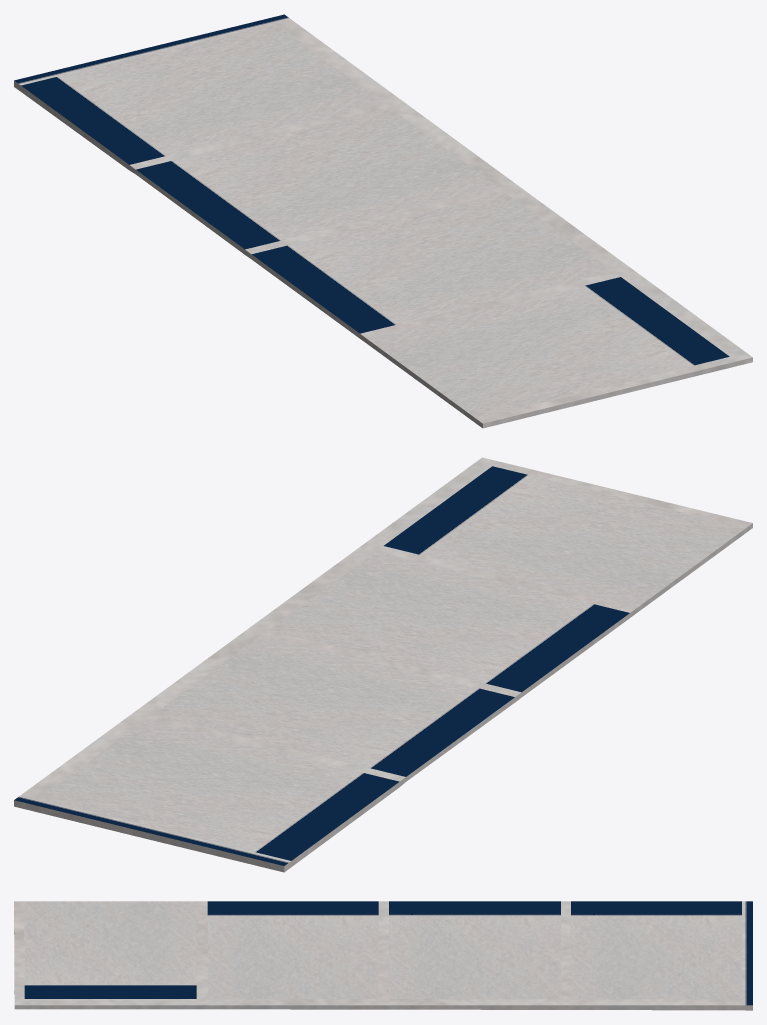
File: Carpark_Parking.fbx
3 views of the same model, one above another, from view 1: azimuth 30°, elevation 25°; view 2: azimuth 150°, elevation 25°; view 3: azimuth 270°, elevation 25° (orthographic). The views are drawn at different scales.
Parts seen in each view (by area): view 1: Carpark; view 2: Carpark; view 3: Carpark.
Part boxes in pixels (box(x1,y1,x2,y2)): Carpark: box(14, 14, 752, 428); Carpark: box(14, 457, 752, 872); Carpark: box(14, 901, 752, 1010).
Size of the model in its own units: 340 by 7.73 by 1020.
